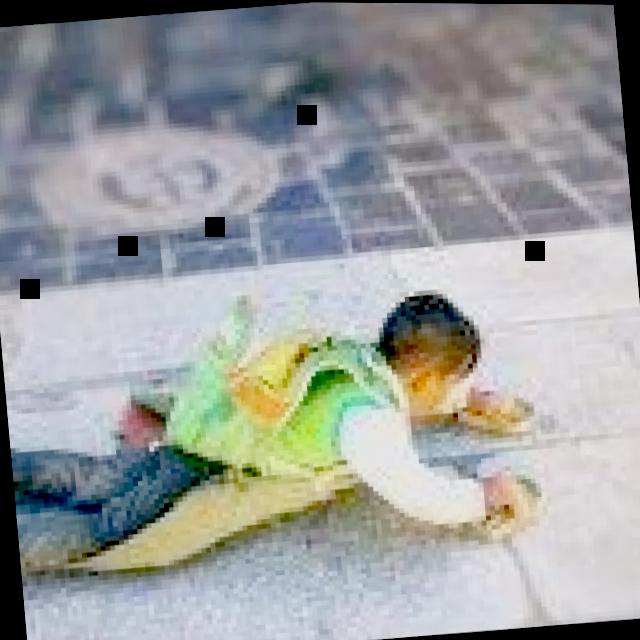Fall-Detected: (0, 252, 576, 613)
